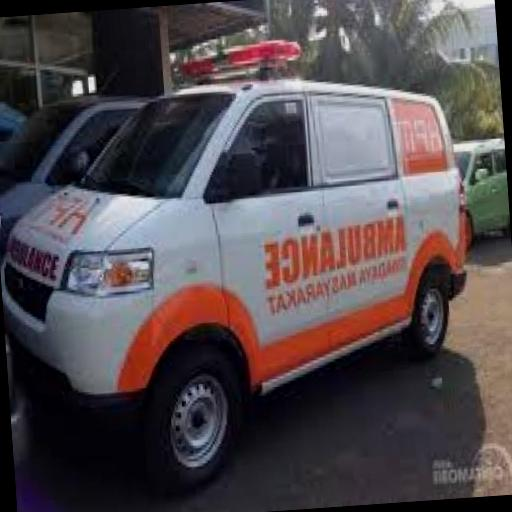Police car: (0, 25, 483, 492)
